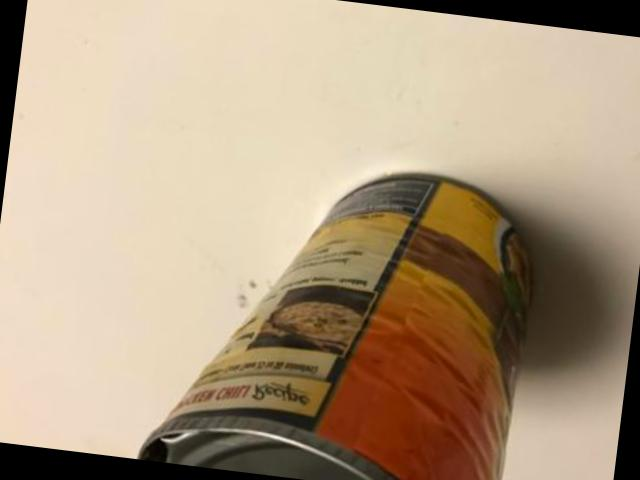metal: (137, 180, 528, 480)
